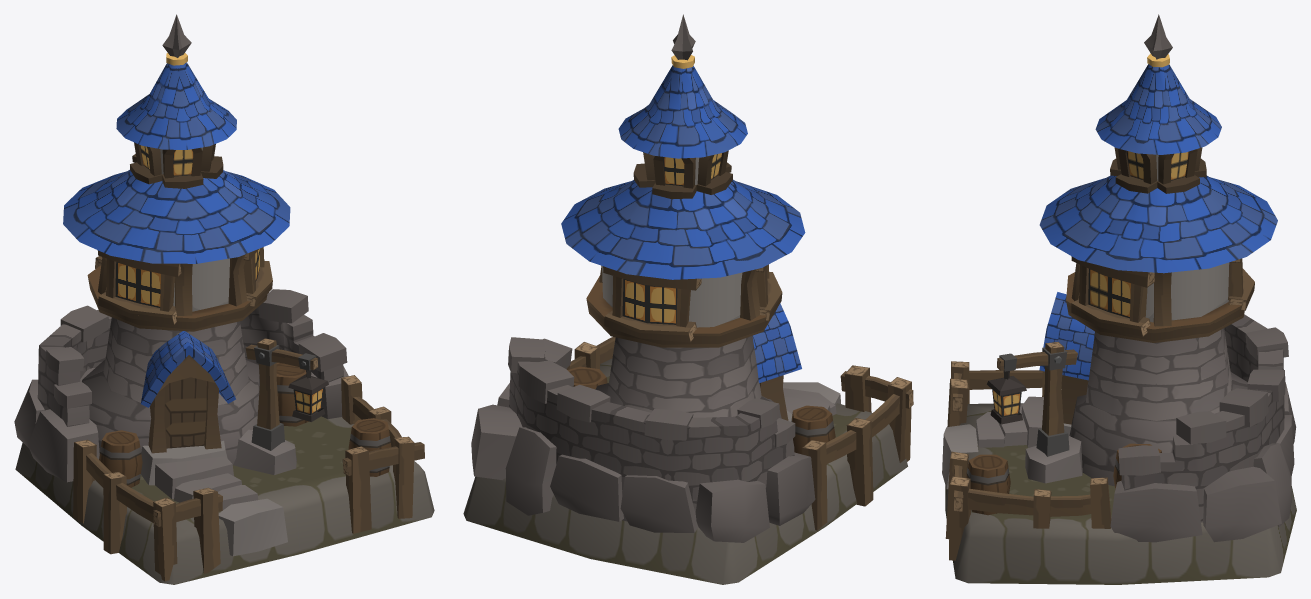
File: MageTower.FBX
3 renders of one model, left to right at view 1: azimuth 30°, elevation 25°; view 2: azimuth 150°, elevation 25°; view 3: azimuth 270°, elevation 25°, orthographic. The views are drawn at different scales.
Visible parts, largest first — view 1: MageTower; view 2: MageTower; view 3: MageTower.
Part boxes in pixels (<box>): MageTower: <box>14,14,434,584</box>; MageTower: <box>463,14,913,584</box>; MageTower: <box>942,14,1296,584</box>.
Bounding box in the file's own units: 645 × 991 × 654.
